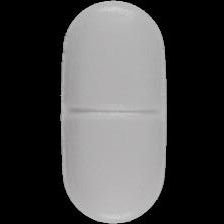50268-402: (0, 0, 224, 224)
